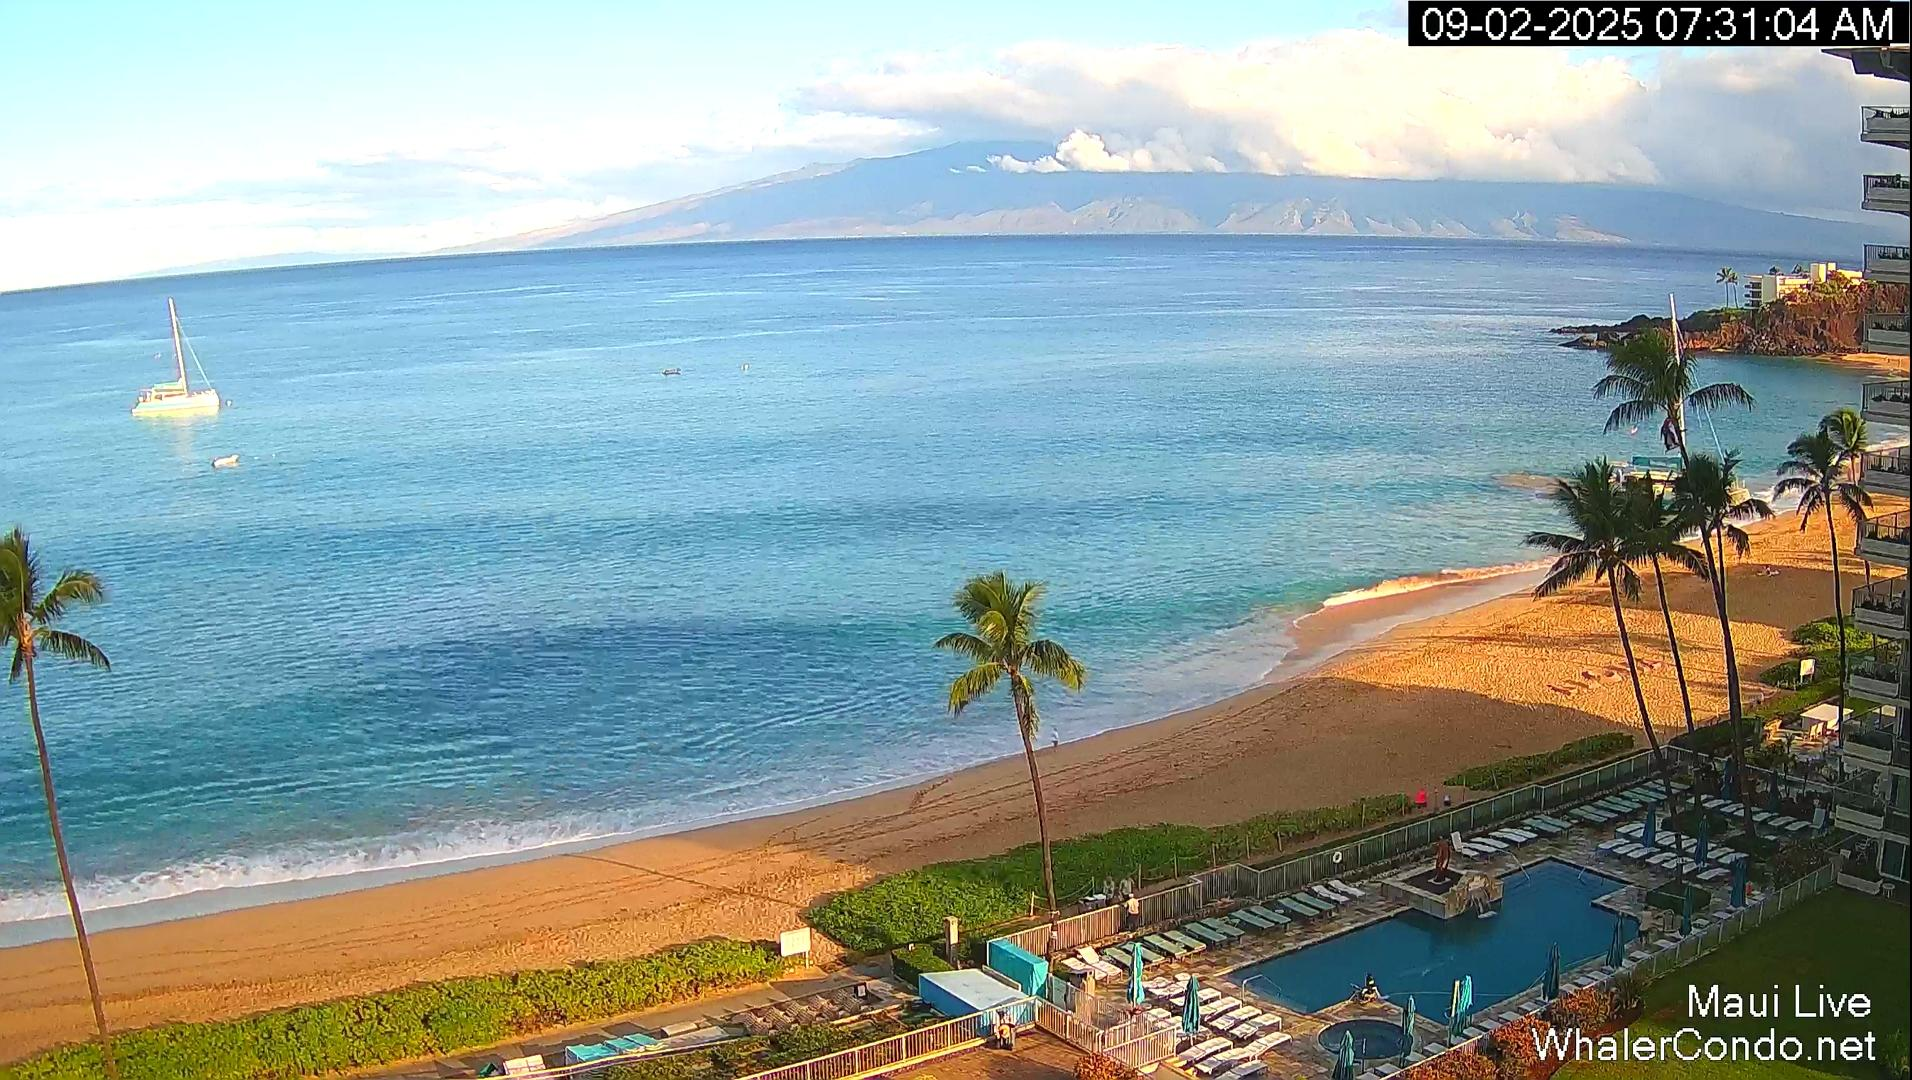boat: (1606, 292, 1753, 512), (131, 296, 222, 415), (212, 452, 241, 468), (663, 365, 684, 377)
person: (1126, 892, 1140, 932), (1119, 874, 1133, 901), (1415, 788, 1428, 812), (1104, 873, 1114, 903), (1756, 564, 1774, 579), (1755, 687, 1764, 711), (1442, 790, 1452, 810), (1050, 728, 1059, 750)
